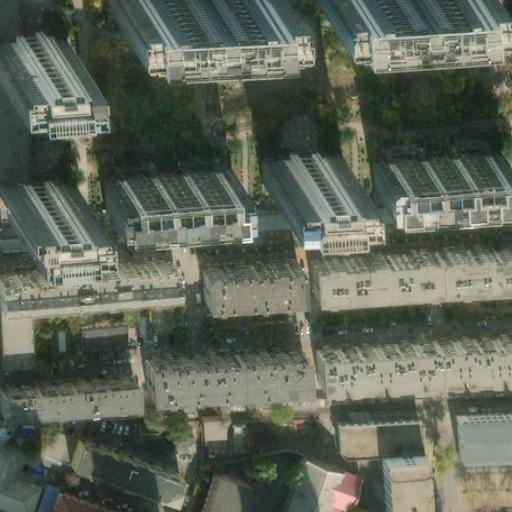building: (304, 242, 512, 294), (311, 330, 512, 380), (68, 434, 182, 501), (139, 343, 295, 388), (365, 144, 499, 187), (89, 163, 218, 206), (0, 367, 132, 407), (199, 261, 302, 310), (40, 477, 148, 512), (98, 0, 265, 20), (257, 142, 342, 181), (278, 459, 334, 512), (334, 417, 415, 452), (455, 418, 512, 464), (376, 456, 422, 512), (0, 23, 61, 64), (0, 170, 67, 206), (0, 299, 30, 364), (202, 419, 249, 459), (199, 476, 250, 512), (77, 322, 131, 353)
